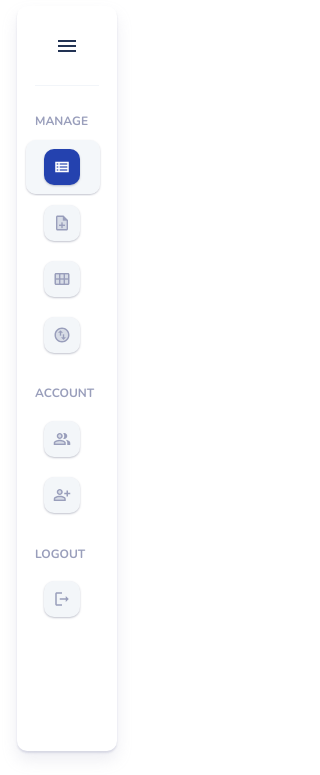
it: Sidebar › opens the drawer upon button click
Expected: the text "Calendar" is not shown
Step 1. Click the button named "open drawer" → click(67, 46), box x1=47 y1=26 x2=87 y2=66
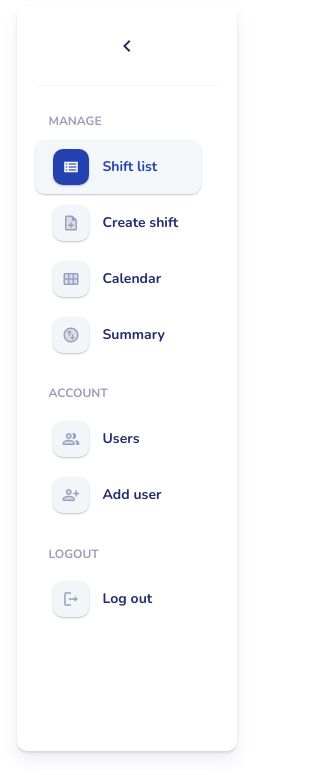
Expected: the button named "close drawer" is shown, x1=107 y1=26 x2=147 y2=66
Expected: the text "Calendar" is shown, x1=102 y1=268 x2=161 y2=288
